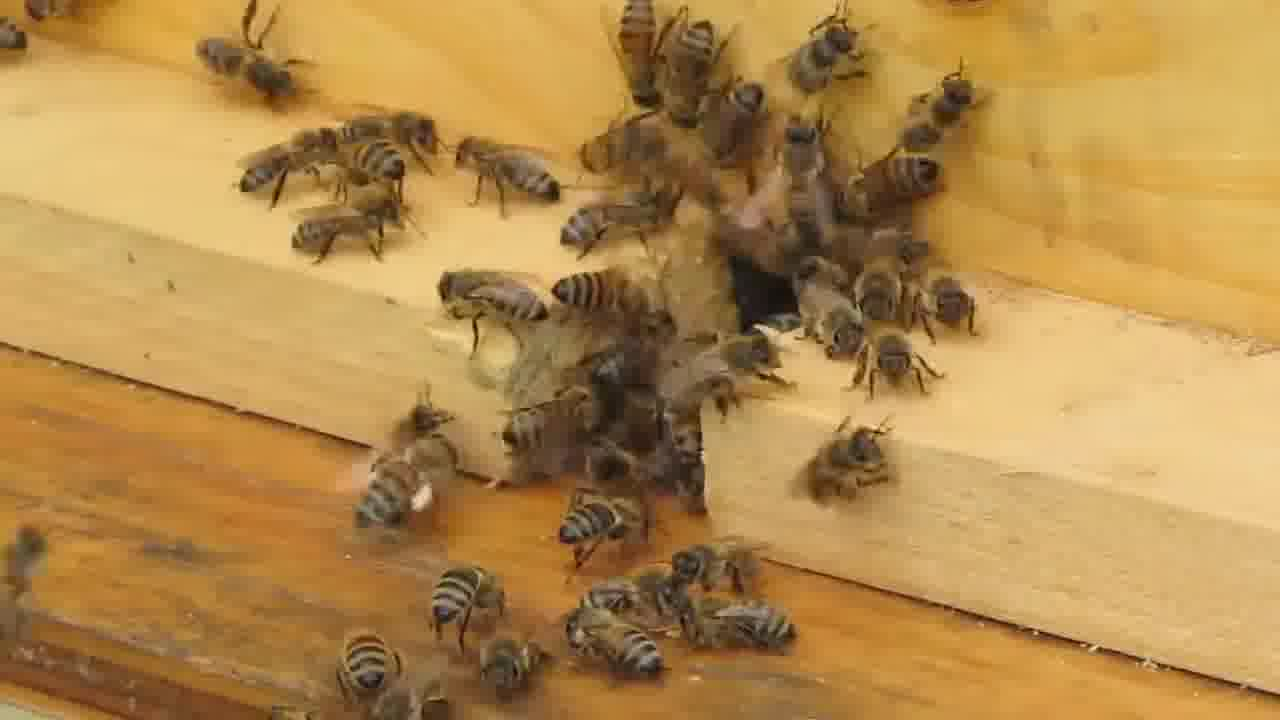pollen: (353, 434, 454, 535)
